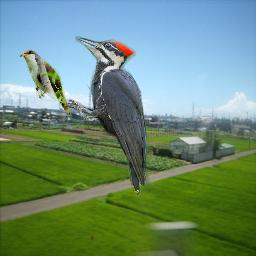Cuckoo: (18, 49, 74, 116)
Woodpecker: (66, 36, 153, 196)
